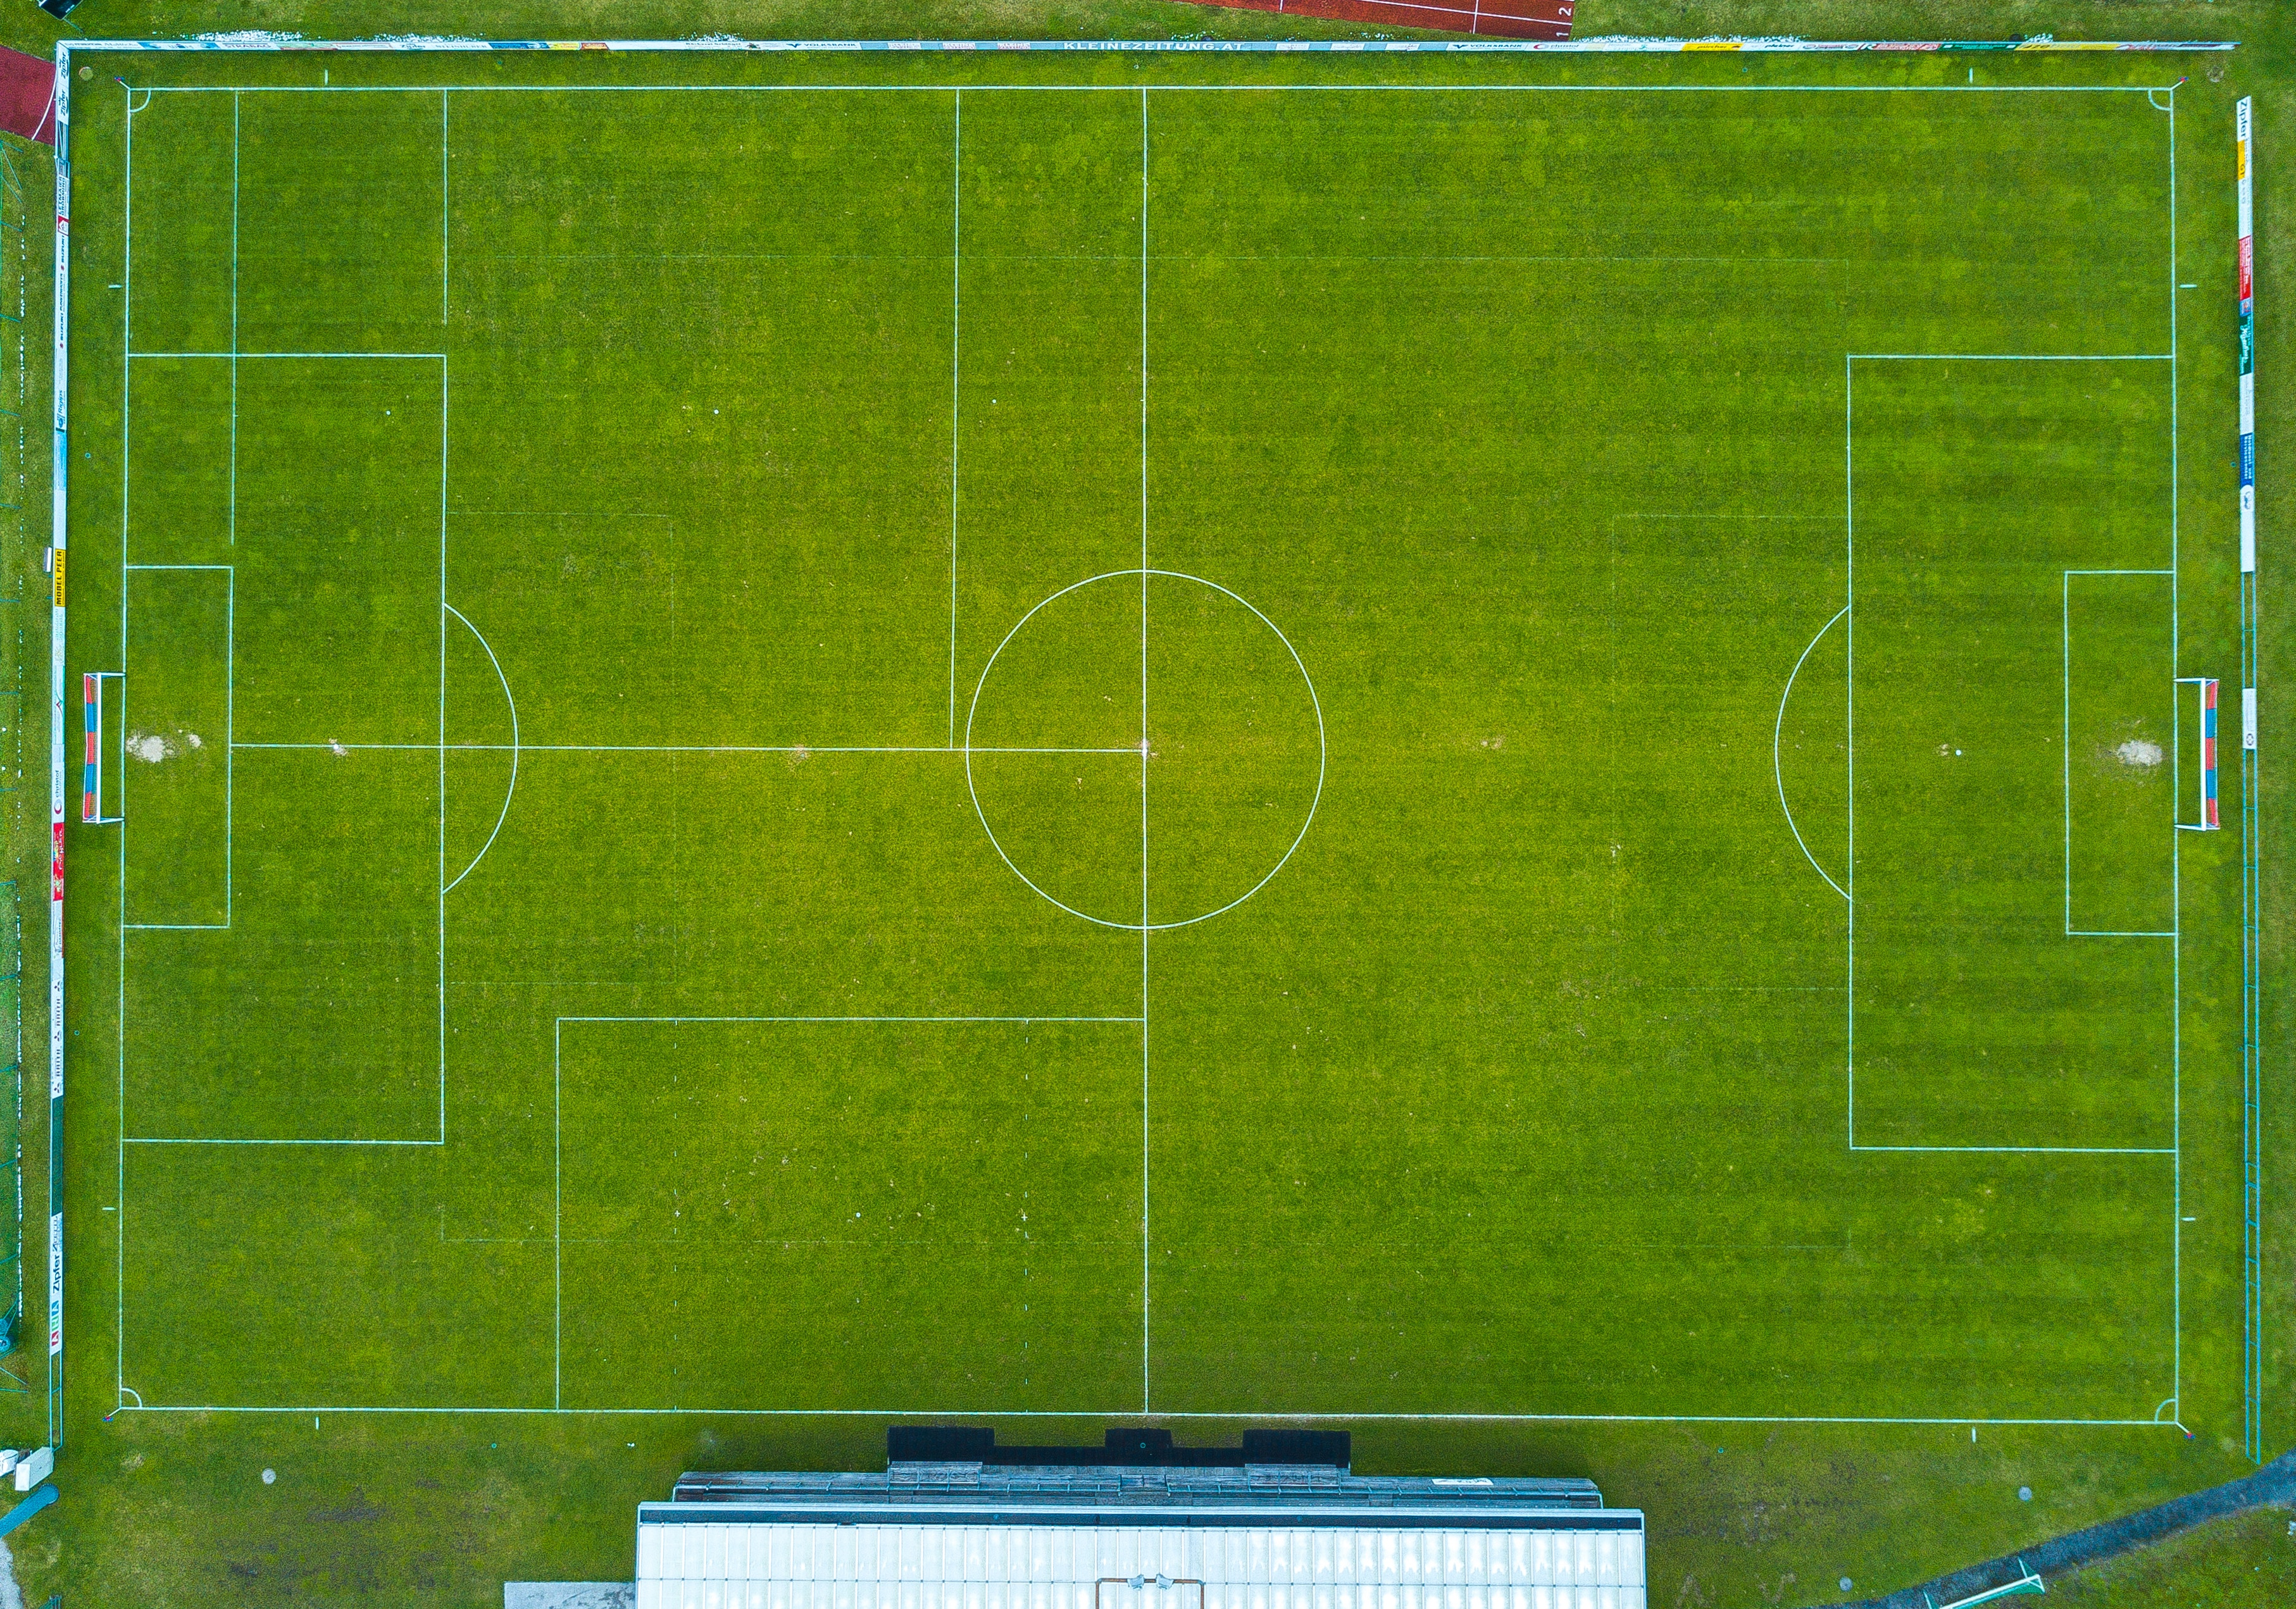stadium: (42, 45, 2279, 1609)
